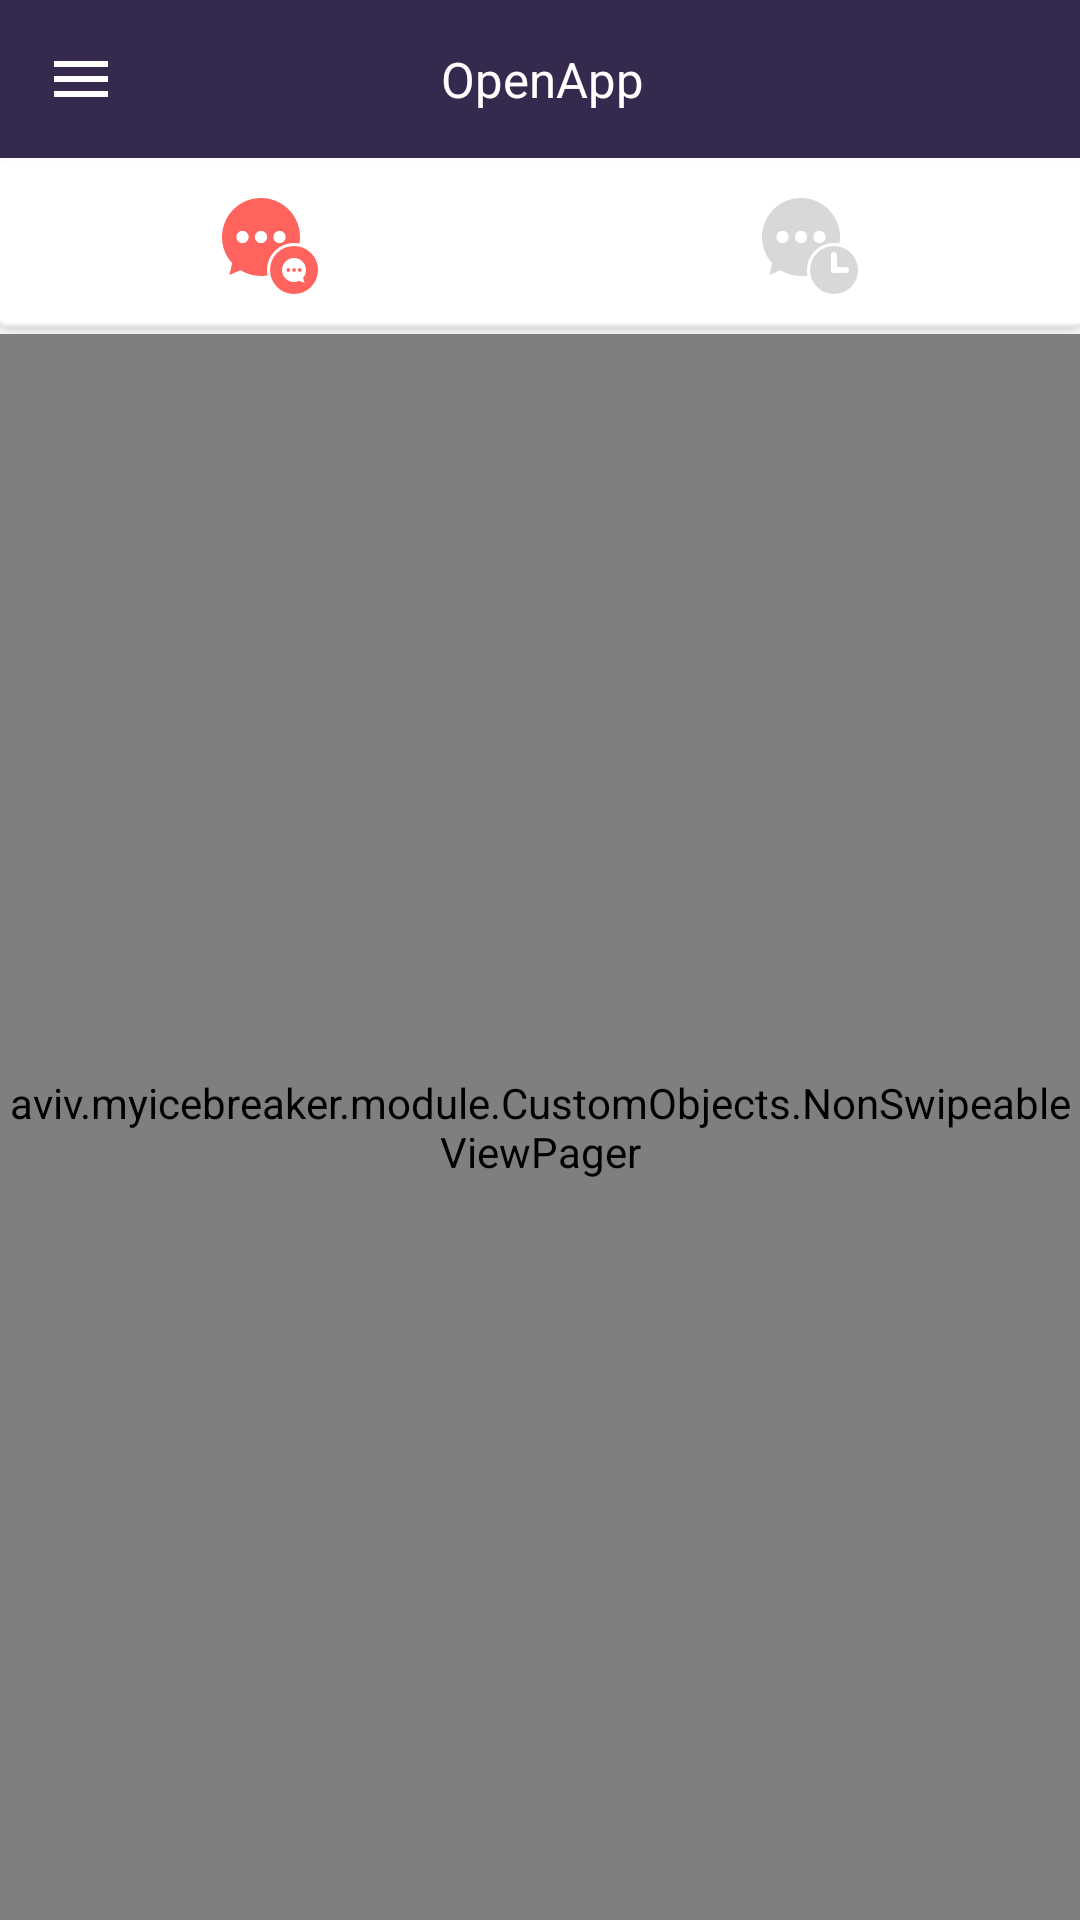

Named icons in this screenshot (1080 × 1920) and their centers, [x,y]:
chats: [270,246]
menu: [81,79]
